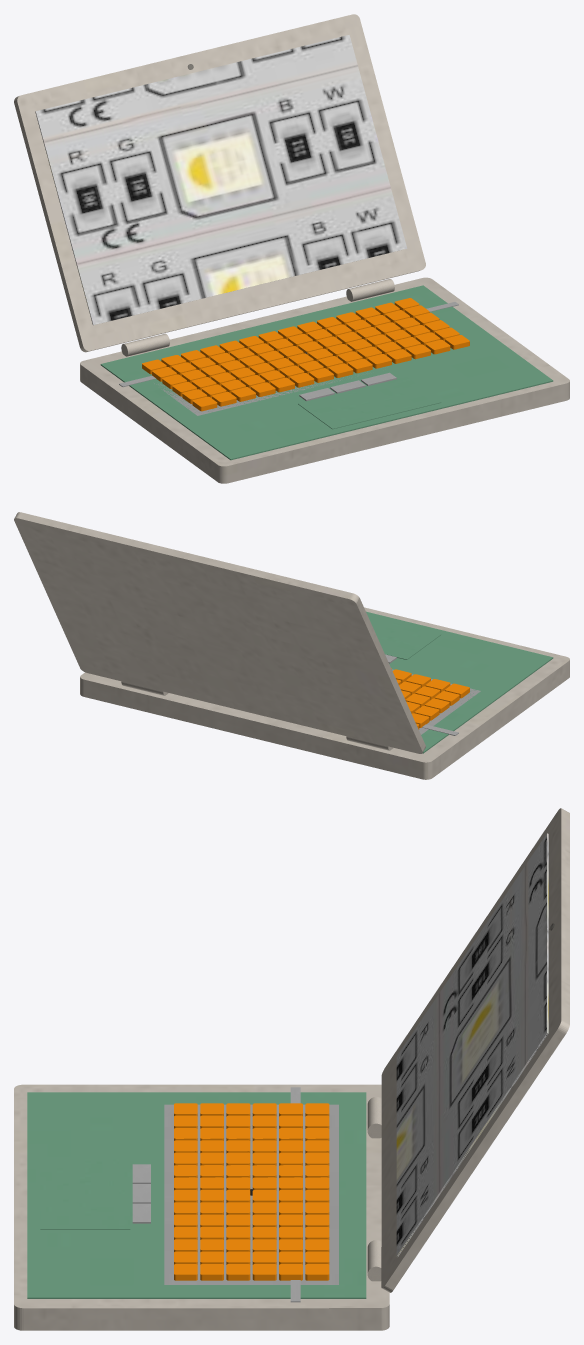
The model's file is Technology_Laptop__0053.glb.
The picture shows the model from 3 angles, top to bottom: view 1: azimuth 30°, elevation 25°; view 2: azimuth 150°, elevation 25°; view 3: azimuth 270°, elevation 25°; orthographic projection. The views are drawn at different scales.
Parts seen in each view (by area): view 1: screen_lid::shell_family__thin_aluminum__display_panel, screen_lid::shell_family__thin_aluminum__lid_shell, base_chassis::shell_family__thin_aluminum__palm_deck_skin, base_chassis::shell_family__thin_aluminum__lower_shell, pointing_surface::pointing_system__trackpoint_three_button__, base_chassis::shell_family__thin_aluminum__keyboard_well_bez, base_chassis::hinge_style__dual_side_barrels__base_barrel_0, base_chassis::hinge_style__dual_side_barrels__base_barrel_1; view 2: screen_lid::shell_family__thin_aluminum__lid_shell, base_chassis::shell_family__thin_aluminum__lower_shell, base_chassis::shell_family__thin_aluminum__palm_deck_skin, pointing_surface::pointing_system__trackpoint_three_button__, base_chassis::shell_family__thin_aluminum__keyboard_well_bez; view 3: base_chassis::shell_family__thin_aluminum__palm_deck_skin, screen_lid::shell_family__thin_aluminum__display_panel, base_chassis::shell_family__thin_aluminum__lower_shell, screen_lid::shell_family__thin_aluminum__lid_shell, base_chassis::shell_family__thin_aluminum__keyboard_well_bez, pointing_surface::pointing_system__trackpoint_three_button__.
Part boxes in pixels (x1,y1,x2,y2): screen_lid::shell_family__thin_aluminum__display_panel: (35, 35, 407, 325); screen_lid::shell_family__thin_aluminum__lid_shell: (14, 14, 425, 352); base_chassis::shell_family__thin_aluminum__palm_deck_skin: (100, 285, 553, 460); base_chassis::shell_family__thin_aluminum__lower_shell: (80, 277, 569, 483); pointing_surface::pointing_system__trackpoint_three_button__: (298, 377, 441, 429); base_chassis::shell_family__thin_aluminum__keyboard_well_bez: (154, 373, 366, 415); base_chassis::hinge_style__dual_side_barrels__base_barrel_0: (121, 333, 169, 356); base_chassis::hinge_style__dual_side_barrels__base_barrel_1: (346, 279, 394, 301); screen_lid::shell_family__thin_aluminum__lid_shell: (14, 512, 425, 753); base_chassis::shell_family__thin_aluminum__lower_shell: (80, 607, 569, 779); base_chassis::shell_family__thin_aluminum__palm_deck_skin: (366, 611, 553, 753); pointing_surface::pointing_system__trackpoint_three_button__: (368, 616, 441, 659); base_chassis::shell_family__thin_aluminum__keyboard_well_bez: (392, 669, 480, 734); base_chassis::shell_family__thin_aluminum__palm_deck_skin: (27, 1092, 366, 1298); screen_lid::shell_family__thin_aluminum__display_panel: (396, 833, 548, 1256); base_chassis::shell_family__thin_aluminum__lower_shell: (14, 1084, 389, 1330); screen_lid::shell_family__thin_aluminum__lid_shell: (381, 808, 569, 1292); base_chassis::shell_family__thin_aluminum__keyboard_well_bez: (164, 1104, 338, 1284); pointing_surface::pointing_system__trackpoint_three_button__: (40, 1159, 130, 1229).
Bounding box in the file's own units: 0.3183 × 0.2052 × 0.3345.
Materials: 9 (7 with a texture image).
